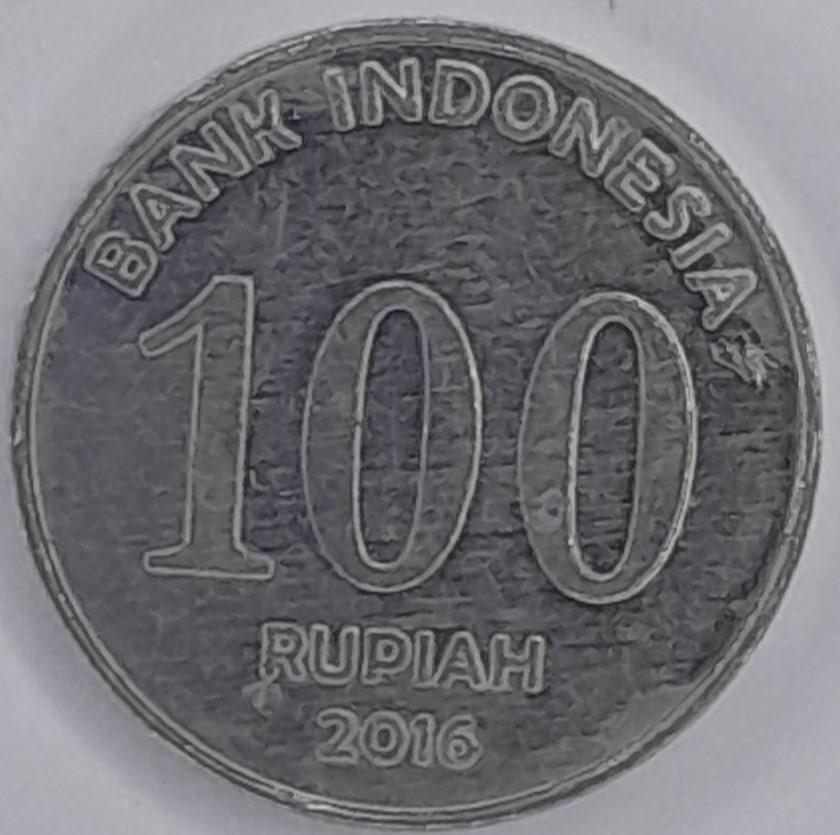coin_100_e2016: (4, 11, 828, 831)
